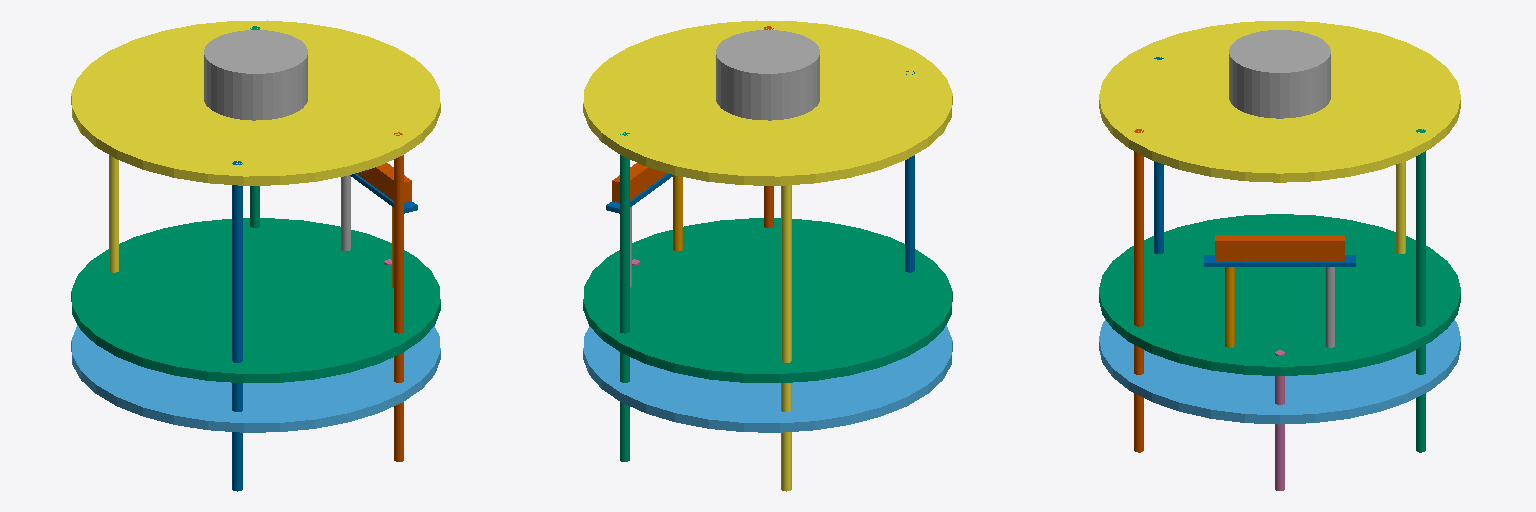
--- What the picture shows (computed from the rendered views, not written in the file) ---
3 views of the same robot in one strip: view 1: azimuth 30°, elevation 25°; view 2: azimuth 150°, elevation 25°; view 3: azimuth 270°, elevation 25° (orthographic).
Model turtlebot2 with 24 links and 23 joints (2 continuous, 21 fixed), rooted at base_footprint, posed all joints at 0.
Visible links, largest first — view 1: middle_base_link, upper_base_link, lower_base_link, lidar_link, base_tick3_link, base_tick4_link, base_tick2_link, camera_link, camera_support_tick1_link; view 2: middle_base_link, upper_base_link, lower_base_link, lidar_link, base_tick2_link, base_tick1_link, base_tick3_link, camera_link, camera_support_tick2_link; view 3: middle_base_link, upper_base_link, lower_base_link, lidar_link, camera_link, base_tick1_link, base_tick4_link, camera_support_base_link, base_tick5_link, base_tick2_link, base_tick3_link, camera_support_tick1_link (+1 smaller).
Link boxes in pixels (bbox=[...]): middle_base_link: bbox=[71, 218, 440, 382]; upper_base_link: bbox=[71, 20, 440, 185]; lower_base_link: bbox=[71, 325, 440, 432]; lidar_link: bbox=[204, 30, 307, 120]; base_tick3_link: bbox=[232, 161, 242, 491]; base_tick4_link: bbox=[394, 132, 403, 461]; base_tick2_link: bbox=[109, 71, 118, 272]; camera_link: bbox=[356, 163, 411, 202]; camera_support_tick1_link: bbox=[341, 175, 350, 250]; middle_base_link: bbox=[583, 218, 952, 382]; upper_base_link: bbox=[583, 20, 952, 185]; lower_base_link: bbox=[583, 325, 952, 432]; lidar_link: bbox=[716, 30, 819, 120]; base_tick2_link: bbox=[781, 161, 791, 491]; base_tick1_link: bbox=[620, 132, 629, 461]; base_tick3_link: bbox=[905, 71, 914, 272]; camera_link: bbox=[612, 163, 667, 202]; camera_support_tick2_link: bbox=[673, 175, 682, 250]; middle_base_link: bbox=[1099, 214, 1460, 375]; upper_base_link: bbox=[1099, 21, 1460, 182]; lower_base_link: bbox=[1099, 319, 1460, 424]; lidar_link: bbox=[1229, 30, 1330, 118]; camera_link: bbox=[1215, 235, 1344, 260]; base_tick1_link: bbox=[1416, 129, 1425, 452]; base_tick4_link: bbox=[1134, 129, 1143, 452]; camera_support_base_link: bbox=[1204, 255, 1355, 266]; base_tick5_link: bbox=[1275, 350, 1284, 490]; base_tick2_link: bbox=[1396, 57, 1405, 253]; base_tick3_link: bbox=[1154, 57, 1163, 253]; camera_support_tick1_link: bbox=[1325, 267, 1334, 347].
Bounding box of the posed robot: 0.36 × 0.36 × 0.41 m (x, y, z).
Meshes: 2 distinct files referenced, 0 mesh visuals loaded (none loaded); not drawn: 3 (reference not matched to a file when rendering).

The robot description file, URDF, robot "turtlebot2":
<?xml version="1.0" ?>
<!-- =================================================================================== -->
<!-- |    This document was autogenerated by xacro from urdf/turtlebot2.urdf.xacro     | -->
<!-- |    EDITING THIS FILE BY HAND IS NOT RECOMMENDED                                 | -->
<!-- =================================================================================== -->
<robot name="turtlebot2" xmlns:controller="http://playerstage.sourceforge.net/gazebo/xmlschema/#controller" xmlns:interface="http://playerstage.sourceforge.net/gazebo/xmlschema/#interface" xmlns:sensor="http://playerstage.sourceforge.net/gazebo/xmlschema/#sensor">
  <link name="base_footprint"/>
  <!--
       Base link is set at the bottom of the base mould.
       This is done to be compatible with the way base link
       was configured for turtlebot 1. Refer to

       https://github.com/turtlebot/turtlebot/issues/40

       To put the base link at the more oft used wheel
       axis, set the z-distance from the base_footprint
       to 0.352.
      -->
  <joint name="base_joint" type="fixed">
    <origin rpy="0 0 0" xyz="0 0 0.0102"/>
    <parent link="base_footprint"/>
    <child link="base_link"/>
  </joint>
  <link name="base_link">
    <visual>
      <geometry>
        <!-- new mesh -->
        <mesh filename="package://custom_robots/meshes/main_body.dae"/>
      </geometry>
      <origin rpy="0 0 0" xyz="0.001 0 0.05199"/>
    </visual>
    <collision name="base">
      <geometry>
        <cylinder length="0.10938" radius="0.178"/>
      </geometry>
      <origin rpy="0 0 0" xyz="0.0 0 0.05949"/>
    </collision>
    <inertial>
      <!-- COM experimentally determined -->
      <origin xyz="0.01 0 0"/>
      <mass value="2.4"/>
      <!-- 2.4/2.6 kg for small/big battery pack -->
      <!-- Kobuki's inertia tensor is approximated by a cylinder with homogeneous mass distribution
             More details: http://en.wikipedia.org/wiki/List_of_moment_of_inertia_tensors
             m = 2.4 kg; h = 0.09 m; r = 0.175 m
             ixx = 1/12 * m * (3 * r^2 + h^2)
             iyy = 1/12 * m * (3 * r^2 + h^2)
             izz = 1/2 * m * r^2
          -->
      <inertia ixx="0.019995" ixy="0.0" ixz="0.0" iyy="0.019995" iyz="0.0" izz="0.03675"/>
    </inertial>
  </link>
  <joint name="wheel_left_joint" type="continuous">
    <parent link="base_link"/>
    <child link="wheel_left_link"/>
    <origin rpy="-1.5707963267948966 0 0" xyz="0.00 0.115 0.0250"/>
    <axis xyz="0 0 1"/>
  </joint>
  <link name="wheel_left_link">
    <visual>
      <geometry>
        <mesh filename="package://custom_robots/meshes/wheel.dae"/>
      </geometry>
      <origin rpy="0 0 0" xyz="0 0 0"/>
    </visual>
    <collision>
      <geometry>
        <cylinder length="0.0206" radius="0.035"/>
      </geometry>
      <origin rpy="0 0 0" xyz="0 0 0"/>
    </collision>
    <inertial>
      <mass value="0.01"/>
      <origin xyz="0 0 0"/>
      <inertia ixx="0.001" ixy="0.0" ixz="0.0" iyy="0.001" iyz="0.0" izz="0.001"/>
    </inertial>
  </link>
  <joint name="wheel_right_joint" type="continuous">
    <parent link="base_link"/>
    <child link="wheel_right_link"/>
    <origin rpy="-1.5707963267948966 0 0" xyz="0.00 -0.115 0.0250"/>
    <axis xyz="0 0 1"/>
  </joint>
  <link name="wheel_right_link">
    <visual>
      <geometry>
        <mesh filename="package://custom_robots/meshes/wheel.dae"/>
      </geometry>
      <origin rpy="0 0 0" xyz="0 0 0"/>
    </visual>
    <collision>
      <geometry>
        <cylinder length="0.0206" radius="0.035"/>
      </geometry>
      <origin rpy="0 0 0" xyz="0 0 0"/>
    </collision>
    <inertial>
      <mass value="0.01"/>
      <origin xyz="0 0 0"/>
      <inertia ixx="0.001" ixy="0.0" ixz="0.0" iyy="0.001" iyz="0.0" izz="0.001"/>
    </inertial>
  </link>
  <joint name="caster_front_joint" type="fixed">
    <parent link="base_link"/>
    <child link="caster_front_link"/>
    <origin rpy="-1.5707963267948966 0 0" xyz="0.115 0.0 0.007"/>
  </joint>
  <link name="caster_front_link">
    <collision>
      <geometry>
        <cylinder length="0.0176" radius="0.017"/>
      </geometry>
      <origin rpy="0 0 0" xyz="0 0 0"/>
    </collision>
    <inertial>
      <mass value="0.01"/>
      <origin xyz="0 0 0"/>
      <inertia ixx="0.001" ixy="0.0" ixz="0.0" iyy="0.001" iyz="0.0" izz="0.001"/>
    </inertial>
  </link>
  <joint name="caster_back_joint" type="fixed">
    <parent link="base_link"/>
    <child link="caster_back_link"/>
    <origin rpy="-1.5707963267948966 0 0" xyz="-0.135 0.0 0.009"/>
  </joint>
  <link name="caster_back_link">
    <collision>
      <geometry>
        <cylinder length="0.0176" radius="0.017"/>
      </geometry>
      <origin rpy="0 0 0" xyz="0 0 0"/>
    </collision>
    <inertial>
      <mass value="0.01"/>
      <origin xyz="0 0 0"/>
      <inertia ixx="0.001" ixy="0.0" ixz="0.0" iyy="0.001" iyz="0.0" izz="0.001"/>
    </inertial>
  </link>
  <!-- Kobuki's sensors -->
  <joint name="gyro_joint" type="fixed">
    <axis xyz="0 1 0"/>
    <origin rpy="0 0 0" xyz="0.056 0.062 0.0202"/>
    <parent link="base_link"/>
    <child link="gyro_link"/>
  </joint>
  <link name="gyro_link">
    <inertial>
      <mass value="0.001"/>
      <origin rpy="0 0 0" xyz="0 0 0"/>
      <inertia ixx="0.0001" ixy="0" ixz="0" iyy="0.000001" iyz="0" izz="0.0001"/>
    </inertial>
  </link>
  <joint name="cliff_sensor_left_joint" type="fixed">
    <origin rpy="0 1.5707963267948966 0" xyz="0.08734 0.13601 0.0214"/>
    <parent link="base_link"/>
    <child link="cliff_sensor_left_link"/>
  </joint>
  <link name="cliff_sensor_left_link">
    <inertial>
      <mass value="0.0001"/>
      <origin xyz="0 0 0"/>
      <inertia ixx="0.0001" ixy="0.0" ixz="0.0" iyy="0.0001" iyz="0.0" izz="0.0001"/>
    </inertial>
  </link>
  <joint name="cliff_sensor_right_joint" type="fixed">
    <origin rpy="0 1.5707963267948966 0" xyz="0.085 -0.13601 0.0214"/>
    <parent link="base_link"/>
    <child link="cliff_sensor_right_link"/>
  </joint>
  <link name="cliff_sensor_right_link">
    <inertial>
      <mass value="0.0001"/>
      <origin xyz="0 0 0"/>
      <inertia ixx="0.0001" ixy="0.0" ixz="0.0" iyy="0.0001" iyz="0.0" izz="0.0001"/>
    </inertial>
  </link>
  <joint name="cliff_sensor_front_joint" type="fixed">
    <origin rpy="0 1.5707963267948966 0" xyz="0.156 0.00 0.0214"/>
    <parent link="base_link"/>
    <child link="cliff_sensor_front_link"/>
  </joint>
  <link name="cliff_sensor_front_link">
    <inertial>
      <mass value="0.0001"/>
      <origin xyz="0 0 0"/>
      <inertia ixx="0.0001" ixy="0.0" ixz="0.0" iyy="0.0001" iyz="0.0" izz="0.0001"/>
    </inertial>
  </link>
  <gazebo reference="wheel_left_link">
    <mu1>1.0</mu1>
    <mu2>1.0</mu2>
    <kp>1000000.0</kp>
    <kd>100.0</kd>
    <minDepth>0.001</minDepth>
    <maxVel>1.0</maxVel>
  </gazebo>
  <gazebo reference="wheel_right_link">
    <mu1>1.0</mu1>
    <mu2>1.0</mu2>
    <kp>1000000.0</kp>
    <kd>100.0</kd>
    <minDepth>0.001</minDepth>
    <maxVel>1.0</maxVel>
  </gazebo>
  <gazebo reference="caster_front_link">
    <mu1>0.0</mu1>
    <mu2>0.0</mu2>
    <kp>1000000.0</kp>
    <kd>100.0</kd>
    <minDepth>0.001</minDepth>
    <maxVel>1.0</maxVel>
  </gazebo>
  <gazebo reference="caster_back_link">
    <mu1>0.0</mu1>
    <mu2>0.0</mu2>
    <kp>1000000.0</kp>
    <kd>100.0</kd>
    <minDepth>0.001</minDepth>
    <maxVel>1.0</maxVel>
  </gazebo>
  <gazebo reference="base_link">
    <mu1>0.3</mu1>
    <mu2>0.3</mu2>
    <sensor name="bumpers" type="contact">
      <always_on>1</always_on>
      <update_rate>50.0</update_rate>
      <visualize>true</visualize>
      <contact>
        <collision>base_footprint_fixed_joint_lump__base_collision</collision>
      </contact>
    </sensor>
  </gazebo>
  <gazebo reference="cliff_sensor_left_link">
    <sensor name="cliff_sensor_left" type="ray">
      <always_on>true</always_on>
      <update_rate>50</update_rate>
      <visualize>true</visualize>
      <ray>
        <scan>
          <horizontal>
            <samples>50</samples>
            <resolution>1.0</resolution>
            <min_angle>-0.0436</min_angle>
            <!-- -2.5 degree -->
            <max_angle>0.0436</max_angle>
            <!-- 2.5 degree -->
          </horizontal>
          <!--            Can't use vertical rays until this bug is resolved: -->
          <!--            https://bitbucket.org/osrf/gazebo/issue/509/vertical-sensor-doesnt-works -->
          <!-- 	          <vertical> -->
          <!-- 	            <samples>50</samples> -->
          <!-- 	            <resolution>1.0</resolution> -->
          <!-- 	            <min_angle>-0.0436</min_angle>  -2.5 degree -->
          <!-- 	            <max_angle>0.0436</max_angle> 2.5 degree -->
          <!-- 	          </vertical> -->
        </scan>
        <range>
          <min>0.01</min>
          <max>0.15</max>
          <resolution>1.0</resolution>
        </range>
      </ray>
    </sensor>
  </gazebo>
  <gazebo reference="cliff_sensor_right_link">
    <sensor name="cliff_sensor_right" type="ray">
      <always_on>true</always_on>
      <update_rate>50</update_rate>
      <visualize>true</visualize>
      <ray>
        <scan>
          <horizontal>
            <samples>50</samples>
            <resolution>1.0</resolution>
            <min_angle>-0.0436</min_angle>
            <!-- -2.5 degree -->
            <max_angle>0.0436</max_angle>
            <!-- 2.5 degree -->
          </horizontal>
          <!--            Can't use vertical rays until this bug is resolved: -->
          <!--            https://bitbucket.org/osrf/gazebo/issue/509/vertical-sensor-doesnt-works -->
          <!-- 	          <vertical> -->
          <!-- 	            <samples>50</samples> -->
          <!-- 	            <resolution>1.0</resolution> -->
          <!-- 	            <min_angle>-0.0436</min_angle>  -2.5 degree -->
          <!-- 	            <max_angle>0.0436</max_angle> 2.5 degree -->
          <!-- 	          </vertical> -->
        </scan>
        <range>
          <min>0.01</min>
          <max>0.15</max>
          <resolution>1.0</resolution>
        </range>
      </ray>
    </sensor>
  </gazebo>
  <gazebo reference="cliff_sensor_front_link">
    <sensor name="cliff_sensor_front" type="ray">
      <always_on>true</always_on>
      <update_rate>50</update_rate>
      <visualize>true</visualize>
      <ray>
        <scan>
          <horizontal>
            <samples>50</samples>
            <resolution>1.0</resolution>
            <min_angle>-0.0436</min_angle>
            <!-- -2.5 degree -->
            <max_angle>0.0436</max_angle>
            <!-- 2.5 degree -->
          </horizontal>
          <!-- 	          Can't use vertical rays until this bug is resolved: -->
          <!--            https://bitbucket.org/osrf/gazebo/issue/509/vertical-sensor-doesnt-works -->
          <!-- 	          <vertical> -->
          <!-- 	            <samples>50</samples> -->
          <!-- 	            <resolution>1.0</resolution> -->
          <!-- 	            <min_angle>-0.0436</min_angle>  -2.5 degree -->
          <!-- 	            <max_angle>0.0436</max_angle> 2.5 degree -->
          <!-- 	          </vertical> -->
        </scan>
        <range>
          <min>0.01</min>
          <max>0.15</max>
          <resolution>1.0</resolution>
        </range>
      </ray>
    </sensor>
  </gazebo>
  <gazebo reference="gyro_link">
    <sensor name="imu" type="imu">
      <plugin filename="libgazebo_ros_imu_sensor.so" name="gazebo_ros_imu_controller">
        <ros>
          <argument>~/out:=imu</argument>
        </ros>
        <output_type>sensor_msgs/msg/Imu</output_type>
        <body_name>gyro_link</body_name>
        <frame_name>gyro_link</frame_name>
      </plugin>
      <always_on>true</always_on>
      <update_rate>50</update_rate>
      <visualize>false</visualize>
      <imu>
        <noise>
          <type>gaussian</type>
          <rate>
            <mean>0.0</mean>
            <stddev>1.96e-06</stddev>
            <!-- 0.25 x 0.25 (deg/s) -->
            <bias_mean>0.0</bias_mean>
            <bias_stddev>0.0</bias_stddev>
          </rate>
          <accel>
            <!-- not used in the plugin and real robot, hence using tutorial values -->
            <mean>0.0</mean>
            <stddev>1.7e-2</stddev>
            <bias_mean>0.1</bias_mean>
            <bias_stddev>0.001</bias_stddev>
          </accel>
        </noise>
      </imu>
    </sensor>
  </gazebo>
  <gazebo>
    <plugin filename="libgazebo_ros_diff_drive.so" name="differential_drive_controller">
      <update_rate>10</update_rate>
      <left_joint>wheel_left_joint</left_joint>
      <right_joint>wheel_right_joint</right_joint>
      <wheel_separation>0.230</wheel_separation>
      <wheel_diameter>0.070</wheel_diameter>
      <max_wheel_torque>1.0</max_wheel_torque>
      <max_wheel_acceleration>1.0</max_wheel_acceleration>
      <command_topic>cmd_vel</command_topic>
      <!-- output -->
      <publish_odom>true</publish_odom>
      <publish_odom_tf>true</publish_odom_tf>
      <publish_wheel_tf>true</publish_wheel_tf>
      <odometry_topic>odom</odometry_topic>
      <odometry_frame>odom</odometry_frame>
      <robot_base_frame>base_link</robot_base_frame>
    </plugin>
  </gazebo>
  <material name="Gray">
    <color rgba="0.5 0.5 0.5 1"/>
  </material>
  <material name="DarkGray">
    <color rgba="0.1 0.1 0.1 0.5"/>
  </material>
  <material name="Black">
    <color rgba="0 0 0 1"/>
  </material>
  <gazebo reference="base_tick1_link">
    <material>Gazebo/Gray</material>
  </gazebo>
  <gazebo reference="base_tick2_link">
    <material>Gazebo/Gray</material>
  </gazebo>
  <gazebo reference="base_tick3_link">
    <material>Gazebo/Gray</material>
  </gazebo>
  <gazebo reference="base_tick4_link">
    <material>Gazebo/Gray</material>
  </gazebo>
  <gazebo reference="base_tick5_link">
    <material>Gazebo/Gray</material>
  </gazebo>
  <gazebo reference="camera_support_tick1_link">
    <material>Gazebo/Gray</material>
  </gazebo>
  <gazebo reference="camera_support_tick2_link">
    <material>Gazebo/Gray</material>
  </gazebo>
  <gazebo reference="lower_base_link">
    <material>Gazebo/DarkGrey</material>
  </gazebo>
  <gazebo reference="middle_base_link">
    <material>Gazebo/DarkGrey</material>
  </gazebo>
  <gazebo reference="upper_base_link">
    <material>Gazebo/DarkGrey</material>
  </gazebo>
  <gazebo reference="camera_support_base_link">
    <material>Gazebo/DarkGrey</material>
  </gazebo>
  <gazebo reference="camera_link">
    <material>Gazebo/Black</material>
  </gazebo>
  <gazebo reference="lidar_link">
    <material>Gazebo/Black</material>
  </gazebo>
  <link name="base_tick1_link">
    <visual>
      <origin rpy="0 0 0" xyz="0 0 0"/>
      <geometry>
        <cylinder length="0.35" radius="0.005"/>
      </geometry>
    </visual>
    <collision name="base">
      <origin rpy="0 0 0" xyz="0 0 0"/>
      <geometry>
        <cylinder length="0.35" radius="0.005"/>
      </geometry>
    </collision>
    <inertial>
      <mass value="0.3"/>
      <!-- cylindrical shell : Izz=m*r^2; Ixx=Iyy=1/12*m*(6*r^2+h^2) -->
      <!-- solid cylinder : Izz=(m*r^2)/2; Ixx=Iyy=1/12*m*(3*r^2+h^2) -->
      <inertia ixx="0.002385" ixy="0.00" ixz="0.00" iyy="0.002385" iyz="0.00" izz="0.00027"/>
    </inertial>
  </link>
  <joint name="base_tick1_joint" type="fixed">
    <origin rpy="0 0 0" xyz="0.08 0.14 0.25"/>
    <parent link="base_link"/>
    <child link="base_tick1_link"/>
  </joint>
  <link name="base_tick2_link">
    <visual>
      <origin rpy="0 0 0" xyz="0 0 0"/>
      <geometry>
        <cylinder length="0.35" radius="0.005"/>
      </geometry>
    </visual>
    <collision name="base">
      <origin rpy="0 0 0" xyz="0 0 0"/>
      <geometry>
        <cylinder length="0.35" radius="0.005"/>
      </geometry>
    </collision>
    <inertial>
      <mass value="0.3"/>
      <!-- cylindrical shell : Izz=m*r^2; Ixx=Iyy=1/12*m*(6*r^2+h^2) -->
      <!-- solid cylinder : Izz=(m*r^2)/2; Ixx=Iyy=1/12*m*(3*r^2+h^2) -->
      <inertia ixx="0.002385" ixy="0.00" ixz="0.00" iyy="0.002385" iyz="0.00" izz="0.00027"/>
    </inertial>
  </link>
  <joint name="base_tick2_joint" type="fixed">
    <origin rpy="0 0 0" xyz="-0.09 0.12 0.25"/>
    <parent link="base_link"/>
    <child link="base_tick2_link"/>
  </joint>
  <link name="base_tick3_link">
    <visual>
      <origin rpy="0 0 0" xyz="0 0 0"/>
      <geometry>
        <cylinder length="0.35" radius="0.005"/>
      </geometry>
    </visual>
    <collision name="base">
      <origin rpy="0 0 0" xyz="0 0 0"/>
      <geometry>
        <cylinder length="0.35" radius="0.005"/>
      </geometry>
    </collision>
    <inertial>
      <mass value="0.3"/>
      <!-- cylindrical shell : Izz=m*r^2; Ixx=Iyy=1/12*m*(6*r^2+h^2) -->
      <!-- solid cylinder : Izz=(m*r^2)/2; Ixx=Iyy=1/12*m*(3*r^2+h^2) -->
      <inertia ixx="0.002385" ixy="0.00" ixz="0.00" iyy="0.002385" iyz="0.00" izz="0.00027"/>
    </inertial>
  </link>
  <joint name="base_tick3_joint" type="fixed">
    <origin rpy="0 0 0" xyz="-0.09 -0.12 0.25"/>
    <parent link="base_link"/>
    <child link="base_tick3_link"/>
  </joint>
  <link name="base_tick4_link">
    <visual>
      <origin rpy="0 0 0" xyz="0 0 0"/>
      <geometry>
        <cylinder length="0.35" radius="0.005"/>
      </geometry>
    </visual>
    <collision name="base">
      <origin rpy="0 0 0" xyz="0 0 0"/>
      <geometry>
        <cylinder length="0.35" radius="0.005"/>
      </geometry>
    </collision>
    <inertial>
      <mass value="0.3"/>
      <!-- cylindrical shell : Izz=m*r^2; Ixx=Iyy=1/12*m*(6*r^2+h^2) -->
      <!-- solid cylinder : Izz=(m*r^2)/2; Ixx=Iyy=1/12*m*(3*r^2+h^2) -->
      <inertia ixx="0.002385" ixy="0.00" ixz="0.00" iyy="0.002385" iyz="0.00" izz="0.00027"/>
    </inertial>
  </link>
  <joint name="base_tick4_joint" type="fixed">
    <origin rpy="0 0 0" xyz="0.08 -0.14 0.25"/>
    <parent link="base_link"/>
    <child link="base_tick4_link"/>
  </joint>
  <link name="base_tick5_link">
    <visual>
      <origin rpy="0 0 0" xyz="0 0 0"/>
      <geometry>
        <cylinder length="0.15" radius="0.005"/>
      </geometry>
    </visual>
    <collision name="base">
      <origin rpy="0 0 0" xyz="0 0 0"/>
      <geometry>
        <cylinder length="0.15" radius="0.005"/>
      </geometry>
    </collision>
    <inertial>
      <mass value="0.3"/>
      <!-- cylindrical shell : Izz=m*r^2; Ixx=Iyy=1/12*m*(6*r^2+h^2) -->
      <!-- solid cylinder : Izz=(m*r^2)/2; Ixx=Iyy=1/12*m*(3*r^2+h^2) -->
      <inertia ixx="0.002385" ixy="0.00" ixz="0.00" iyy="0.002385" iyz="0.00" izz="0.00027"/>
    </inertial>
  </link>
  <joint name="base_tick5_joint" type="fixed">
    <origin rpy="0 0 0" xyz="0.15 0.0 0.14"/>
    <parent link="base_link"/>
    <child link="base_tick5_link"/>
  </joint>
  <link name="camera_support_tick1_link">
    <visual>
      <origin rpy="0 0 0" xyz="0 0 0"/>
      <geometry>
        <cylinder length="0.1" radius="0.005"/>
      </geometry>
    </visual>
    <collision name="base">
      <origin rpy="0 0 0" xyz="0 0 0"/>
      <geometry>
        <cylinder length="0.1" radius="0.005"/>
      </geometry>
    </collision>
    <inertial>
      <mass value="0.3"/>
      <!-- cylindrical shell : Izz=m*r^2; Ixx=Iyy=1/12*m*(6*r^2+h^2) -->
      <!-- solid cylinder : Izz=(m*r^2)/2; Ixx=Iyy=1/12*m*(3*r^2+h^2) -->
      <inertia ixx="0.002385" ixy="0.00" ixz="0.00" iyy="0.002385" iyz="0.00" izz="0.00027"/>
    </inertial>
  </link>
  <joint name="camera_support_tick1_joint" type="fixed">
    <origin rpy="0 0 0" xyz="0.13 0.05 0.05"/>
    <parent link="middle_base_link"/>
    <child link="camera_support_tick1_link"/>
  </joint>
  <link name="camera_support_tick2_link">
    <visual>
      <origin rpy="0 0 0" xyz="0 0 0"/>
      <geometry>
        <cylinder length="0.1" radius="0.005"/>
      </geometry>
    </visual>
    <collision name="base">
      <origin rpy="0 0 0" xyz="0 0 0"/>
      <geometry>
        <cylinder length="0.1" radius="0.005"/>
      </geometry>
    </collision>
    <inertial>
      <mass value="0.3"/>
      <!-- cylindrical shell : Izz=m*r^2; Ixx=Iyy=1/12*m*(6*r^2+h^2) -->
      <!-- solid cylinder : Izz=(m*r^2)/2; Ixx=Iyy=1/12*m*(3*r^2+h^2) -->
      <inertia ixx="0.002385" ixy="0.00" ixz="0.00" iyy="0.002385" iyz="0.00" izz="0.00027"/>
    </inertial>
  </link>
  <joint name="camera_support_tick2_joint" type="fixed">
    <origin rpy="0 0 0" xyz="0.13 -0.05 0.05"/>
    <parent link="middle_base_link"/>
    <child link="camera_support_tick2_link"/>
  </joint>
  <link name="lower_base_link">
    <visual>
      <origin rpy="0 0 0" xyz="0 0 0"/>
      <geometry>
        <cylinder length="0.01" radius="0.18"/>
      </geometry>
    </visual>
    <collision name="base">
      <origin rpy="0 0 0" xyz="0 0 0"/>
      <geometry>
        <cylinder length="0.01" radius="0.18"/>
      </geometry>
    </collision>
    <inertial>
      <mass value="0.3"/>
      <!-- cylindrical shell : Izz=m*r^2; Ixx=Iyy=1/12*m*(6*r^2+h^2) -->
      <!-- solid cylinder : Izz=(m*r^2)/2; Ixx=Iyy=1/12*m*(3*r^2+h^2) -->
      <inertia ixx="0.002385" ixy="0.00" ixz="0.00" iyy="0.002385" iyz="0.00" izz="0.00027"/>
    </inertial>
  </link>
  <joint name="lower_base_joint" type="fixed">
    <origin rpy="0 0 0" xyz="0.0 0.0 0.155"/>
    <parent link="base_link"/>
    <child link="lower_base_link"/>
  </joint>
  <link name="middle_base_link">
    <visual>
      <origin rpy="0 0 0" xyz="0 0 0"/>
      <geometry>
        <cylinder length="0.01" radius="0.18"/>
      </geometry>
    </visual>
    <collision name="base">
      <origin rpy="0 0 0" xyz="0 0 0"/>
      <geometry>
        <cylinder length="0.01" radius="0.18"/>
      </geometry>
    </collision>
    <inertial>
      <mass value="0.3"/>
      <!-- cylindrical shell : Izz=m*r^2; Ixx=Iyy=1/12*m*(6*r^2+h^2) -->
      <!-- solid cylinder : Izz=(m*r^2)/2; Ixx=Iyy=1/12*m*(3*r^2+h^2) -->
      <inertia ixx="0.002385" ixy="0.00" ixz="0.00" iyy="0.002385" iyz="0.00" izz="0.00027"/>
    </inertial>
  </link>
  <joint name="middle_base_joint" type="fixed">
    <origin rpy="0 0 0" xyz="0.0 0.0 0.208"/>
    <parent link="base_link"/>
    <child link="middle_base_link"/>
  </joint>
  <link name="upper_base_link">
    <visual>
      <origin rpy="0 0 0" xyz="0 0 0"/>
      <geometry>
        <cylinder length="0.01" radius="0.18"/>
      </geometry>
    </visual>
    <collision name="base">
      <origin rpy="0 0 0" xyz="0 0 0"/>
      <geometry>
        <cylinder length="0.01" radius="0.18"/>
      </geometry>
    </collision>
    <inertial>
      <mass value="0.3"/>
      <!-- cylindrical shell : Izz=m*r^2; Ixx=Iyy=1/12*m*(6*r^2+h^2) -->
      <!-- solid cylinder : Izz=(m*r^2)/2; Ixx=Iyy=1/12*m*(3*r^2+h^2) -->
      <inertia ixx="0.002385" ixy="0.00" ixz="0.00" iyy="0.002385" iyz="0.00" izz="0.00027"/>
    </inertial>
  </link>
  <joint name="upper_base_joint" type="fixed">
    <origin rpy="0 0 0" xyz="0.0 0.0 0.42"/>
    <parent link="base_link"/>
    <child link="upper_base_link"/>
  </joint>
  <link name="camera_support_base_link">
    <visual>
      <origin rpy="0 0 0" xyz="0 0 0"/>
      <geometry>
        <box size="0.0175 0.15 0.005"/>
      </geometry>
    </visual>
    <collision name="base">
      <origin rpy="0 0 0" xyz="0 0 0"/>
      <geometry>
        <box size="0.0175 0.15 0.005"/>
      </geometry>
    </collision>
    <inertial>
      <mass value="0.3"/>
      <inertia ixx="1.0" ixy="0.0" ixz="0.0" iyy="100.0" iyz="0.0" izz="1.0"/>
    </inertial>
  </link>
  <joint name="camera_support_base_joint" type="fixed">
    <origin rpy="0 0 0" xyz="0.13 0 0.0975"/>
    <parent link="middle_base_link"/>
    <child link="camera_support_base_link"/>
  </joint>
  <link name="camera_link">
    <visual>
      <origin rpy="0 0 0" xyz="0 0 0"/>
      <geometry>
        <box size="0.015 0.130 0.022"/>
      </geometry>
    </visual>
    <collision>
      <origin rpy="0 0 0" xyz="0 0 0"/>
      <geometry>
        <box size="0.015 0.130 0.022"/>
      </geometry>
    </collision>
    <inertial>
      <origin rpy="0 0 0" xyz="0 0 0"/>
      <mass value="0.035"/>
      <inertia ixx="0.001" ixy="0" ixz="0" iyy="0.001" iyz="0" izz="0.001"/>
    </inertial>
  </link>
  <joint name="camera_joint" type="fixed">
    <parent link="base_link"/>
    <child link="camera_link"/>
    <origin rpy="0 0 0" xyz="0.13 0 0.32"/>
  </joint>
  <link name="camera_depth_frame"/>
  <joint name="camera_depth_joint" type="fixed">
    <origin rpy="-1.5707963267948966 0 -1.5707963267948966" xyz="0 0 0"/>
    <parent link="camera_link"/>
    <child link="camera_depth_frame"/>
  </joint>
  <gazebo reference="camera_link">
    <sensor name="depth_camera" type="depth">
      <visualize>true</visualize>
      <update_rate>30.0</update_rate>
      <camera name="camera">
        <horizontal_fov>1.047198</horizontal_fov>
        <image>
          <width>640</width>
          <height>480</height>
          <format>R8G8B8</format>
        </image>
        <clip>
          <near>0.05</near>
          <far>6</far>
        </clip>
      </camera>
      <plugin filename="libgazebo_ros_camera.so" name="depth_camera_controller">
        <baseline>0.2</baseline>
        <alwaysOn>true</alwaysOn>
        <updateRate>0.0</updateRate>
        <frame_name>camera_depth_frame</frame_name>
        <pointCloudCutoff>0.5</pointCloudCutoff>
        <pointCloudCutoffMax>6.0</pointCloudCutoffMax>
        <distortionK1>0</distortionK1>
        <distortionK2>0</distortionK2>
        <distortionK3>0</distortionK3>
        <distortionT1>0</distortionT1>
        <distortionT2>0</distortionT2>
        <CxPrime>0</CxPrime>
        <Cx>0</Cx>
        <Cy>0</Cy>
        <focalLength>0</focalLength>
        <hackBaseline>0</hackBaseline>
      </plugin>
    </sensor>
  </gazebo>
  <link name="lidar_link">
    <inertial>
      <origin rpy="0 0 0" xyz="0 0 0"/>
      <mass value="0.125"/>
      <inertia ixx="0.001" ixy="0" ixz="0" iyy="0.001" iyz="0" izz="0.001"/>
    </inertial>
    <collision>
      <origin rpy="0 0 0" xyz="0 0 0"/>
      <geometry>
        <cylinder length="0.055" radius="0.0508"/>
      </geometry>
    </collision>
    <visual>
      <origin rpy="0 0 0" xyz="0 0 0"/>
      <geometry>
        <cylinder length="0.055" radius="0.0508"/>
      </geometry>
    </visual>
  </link>
  <joint name="lidar_joint" type="fixed">
    <parent link="upper_base_link"/>
    <child link="lidar_link"/>
    <origin rpy="0 0 0" xyz="0 0 0.0275"/>
  </joint>
  <gazebo reference="lidar_link">
    <sensor name="lidar" type="ray">
      <always_on>true</always_on>
      <visualize>true</visualize>
      <update_rate>5</update_rate>
      <ray>
        <scan>
          <horizontal>
            <samples>360</samples>
            <resolution>1.000000</resolution>
            <min_angle>0.000000</min_angle>
            <max_angle>6.280000</max_angle>
          </horizontal>
        </scan>
        <range>
          <min>0.120000</min>
          <max>3.5</max>
          <resolution>0.015000</resolution>
        </range>
        <noise>
          <type>gaussian</type>
          <mean>0.0</mean>
          <stddev>0.01</stddev>
        </noise>
      </ray>
      <plugin filename="libgazebo_ros_ray_sensor.so" name="scan">
        <ros>
          <remapping>~/out:=scan</remapping>
        </ros>
        <output_type>sensor_msgs/LaserScan</output_type>
        <frame_name>lidar_link</frame_name>
      </plugin>
    </sensor>
  </gazebo>
</robot>
